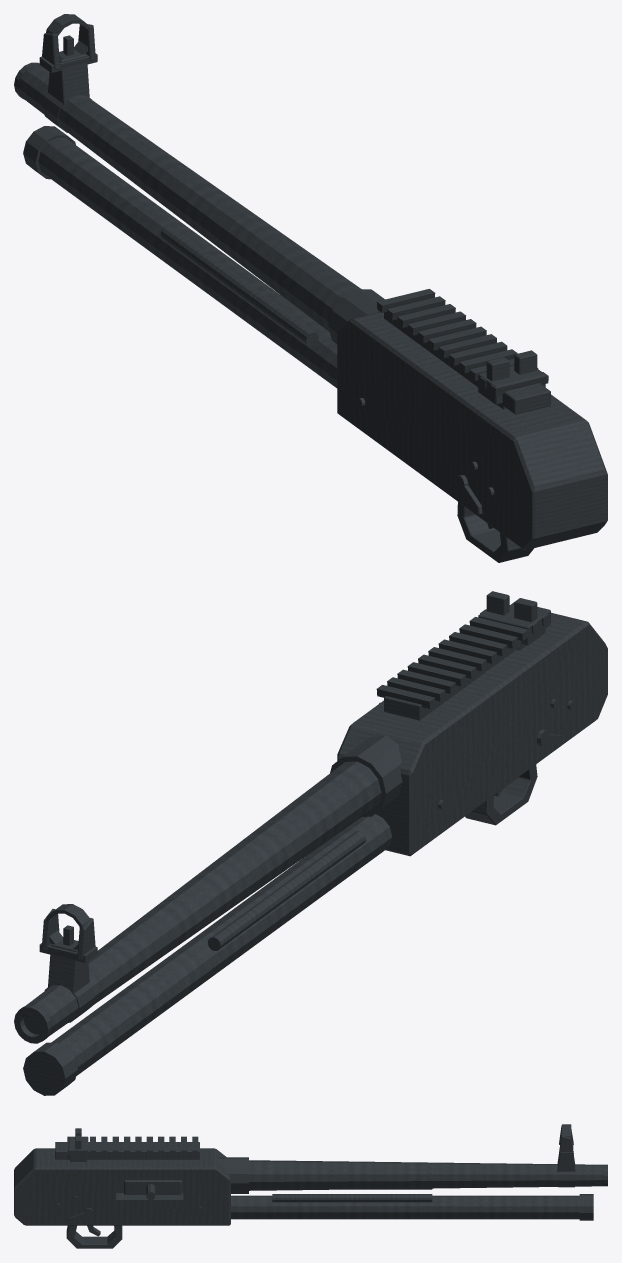
File: weapon_benellim4.glb
3 renders of one model, top to bottom at view 1: azimuth 30°, elevation 25°; view 2: azimuth 150°, elevation 25°; view 3: azimuth 270°, elevation 25°, orthographic. The views are drawn at different scales.
Parts seen in each view (by area): view 1: body_LOD0; view 2: body_LOD0; view 3: body_LOD0, action_LOD0.
Part boxes in pixels (box(x1,y1,x2,y2)): body_LOD0: box(14, 14, 607, 562); body_LOD0: box(14, 591, 607, 1095); body_LOD0: box(14, 1124, 607, 1248); action_LOD0: box(124, 1180, 181, 1200).
Size of what is drawn, in the model's own units: 0.134 by 0.255 by 1.15.
1 material, 1 textured.
